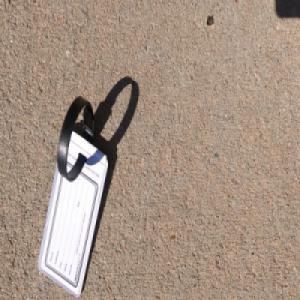LuggageTag: (38, 92, 110, 290)
